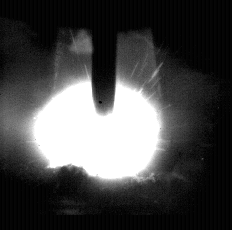arame: (92, 0, 117, 115)
poca: (32, 0, 160, 230)
